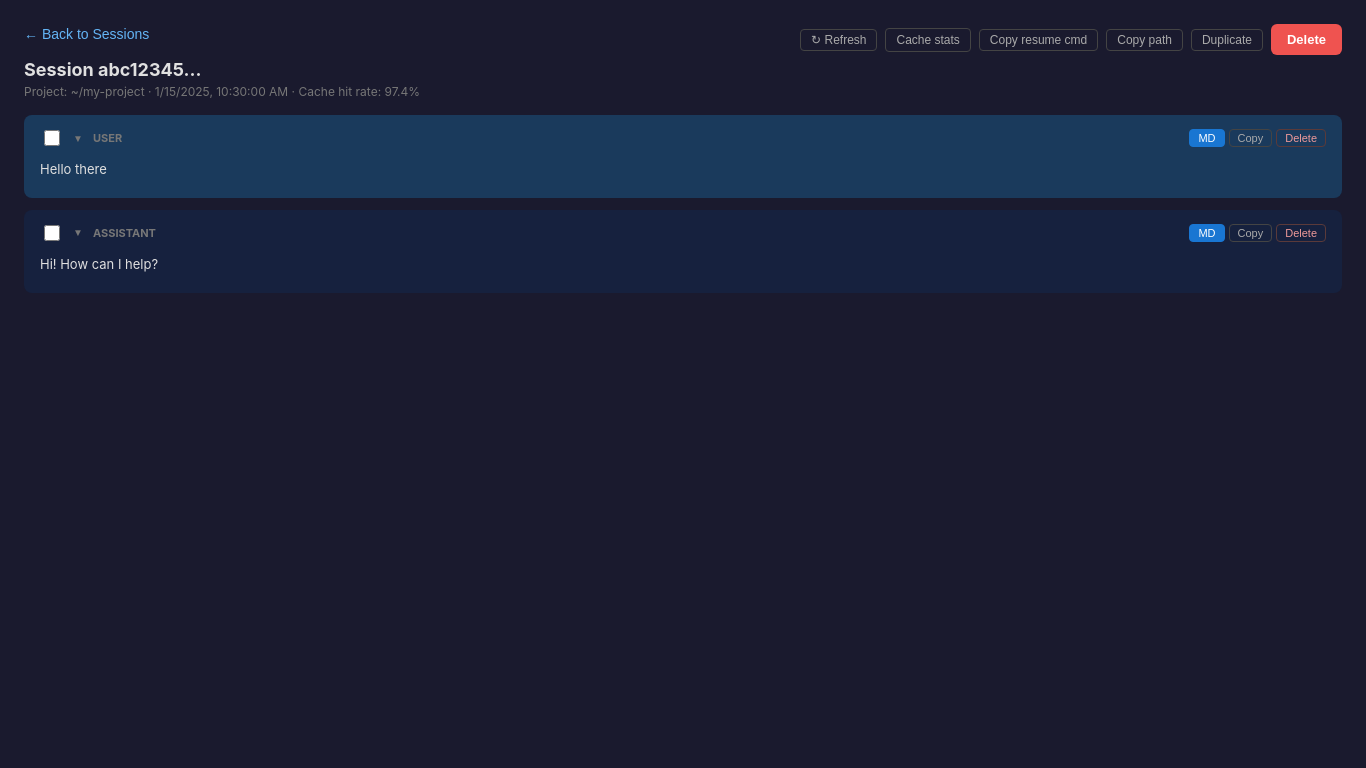
it: SessionDetail › cache stats panel › skips a null-hitRate turn in the figure instead of plotting it
Click the button "Cache stats": point(928, 40) [886,28,971,52]
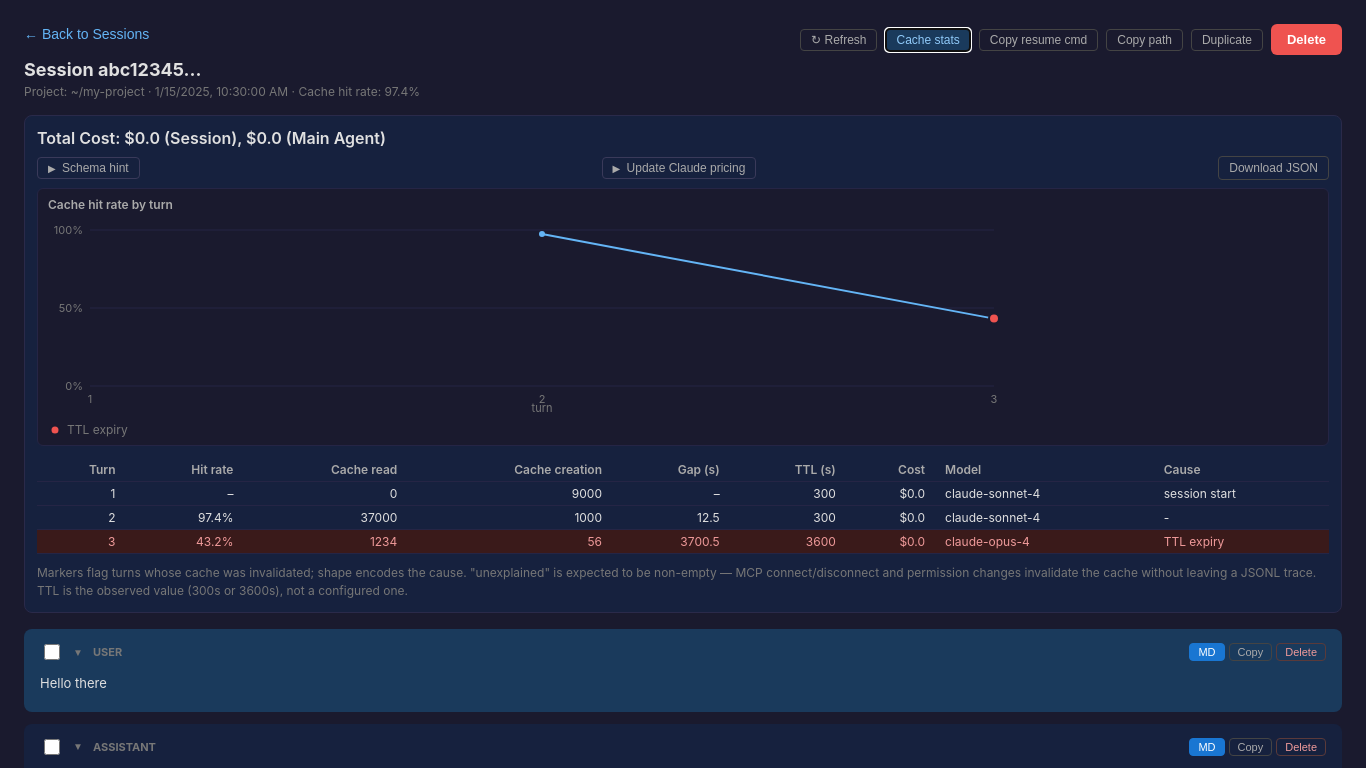
Check: the picture named "Cache hit rate by turn: 2 of 3 turns plotted, 1 cache-miss turn marked." is shown, box [48,216,1008,416]
